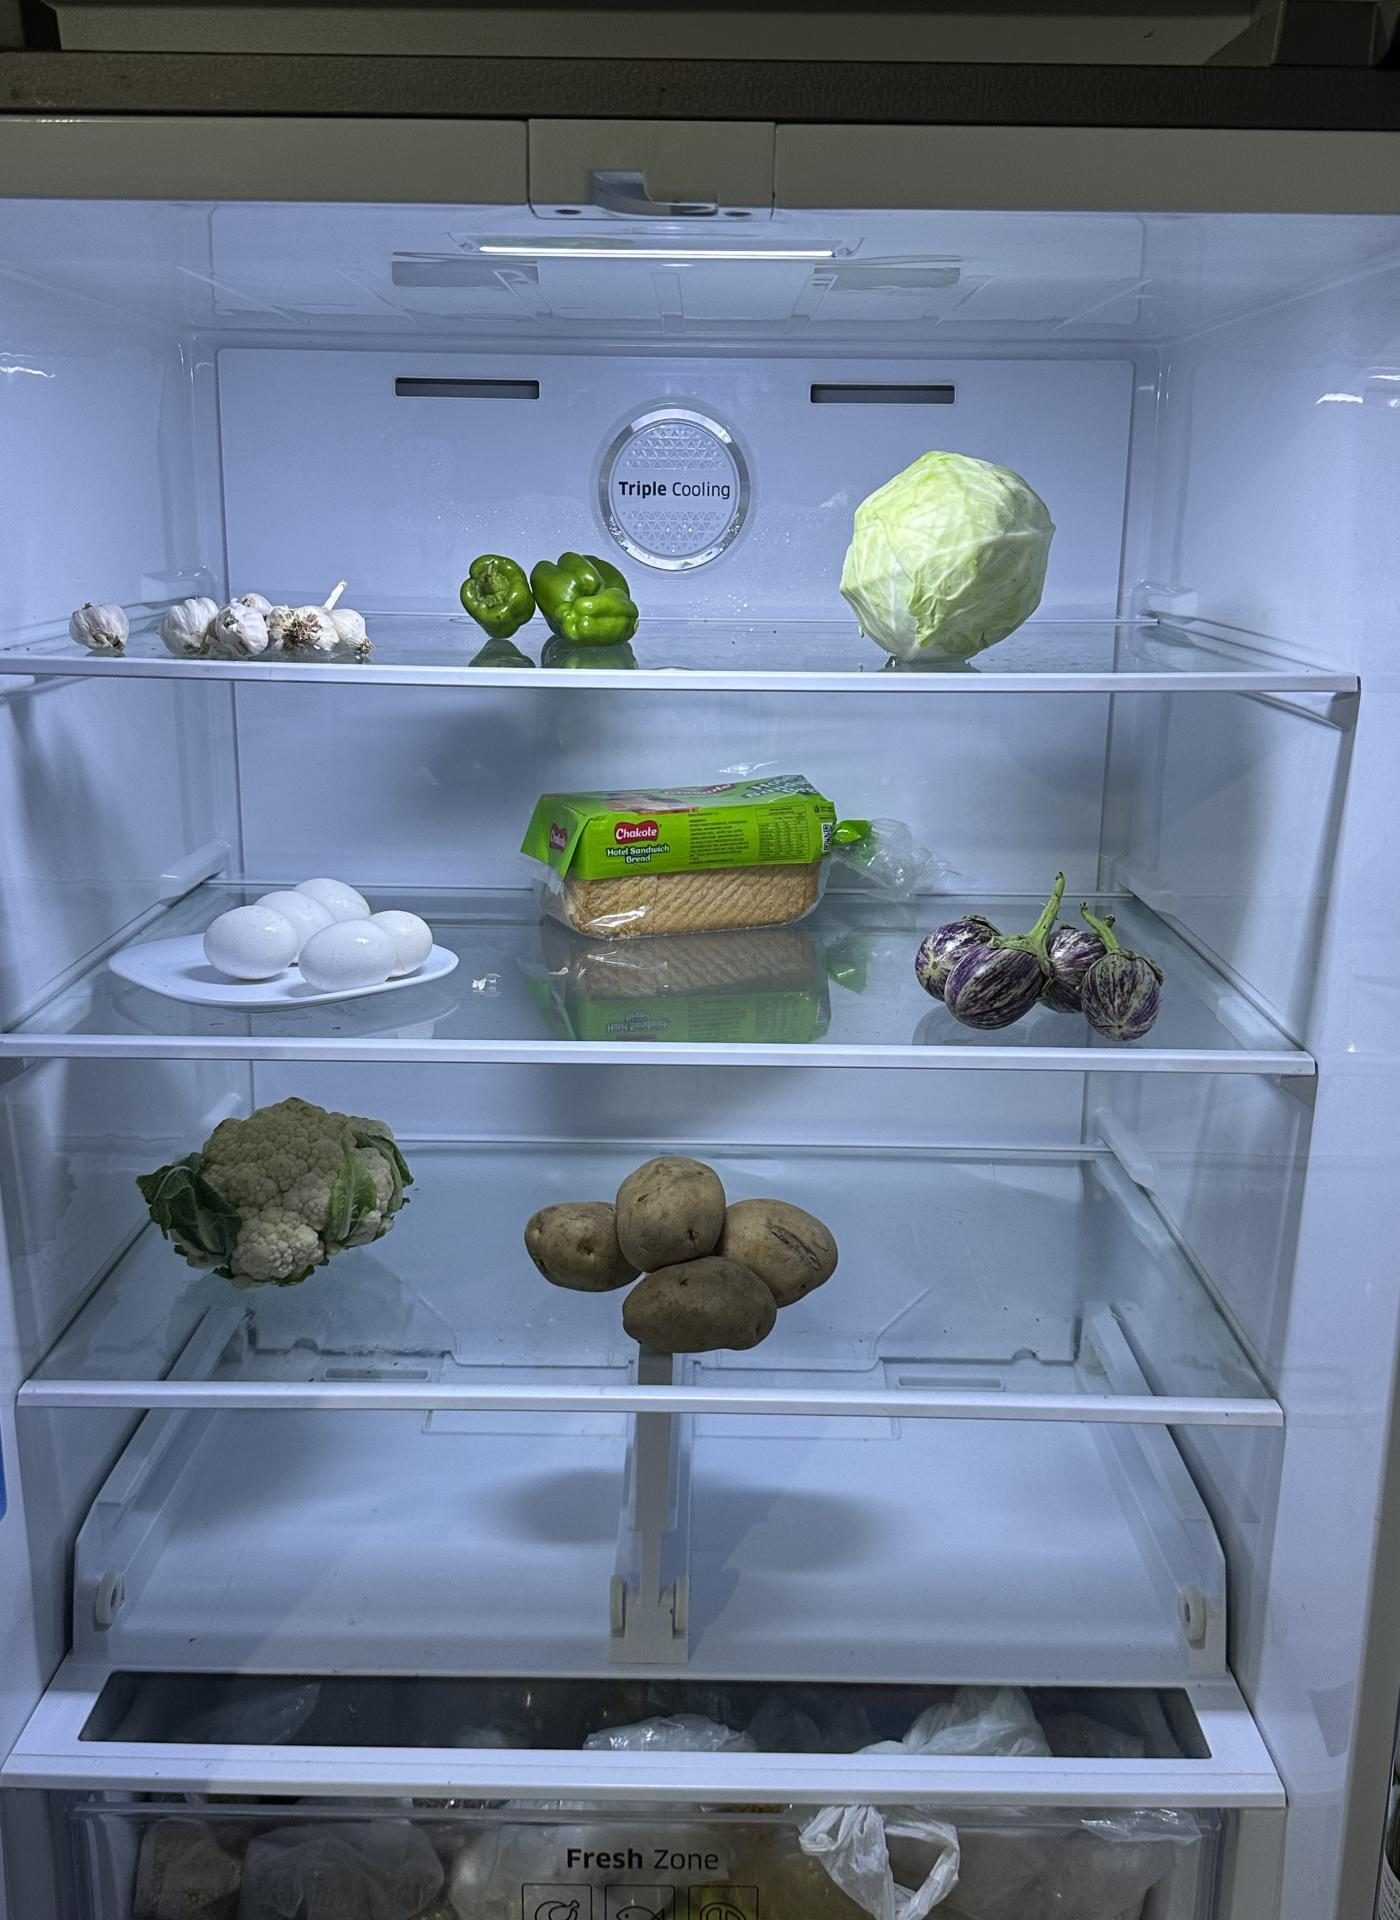bread: (517, 766, 850, 942)
brinjal: (923, 930, 1172, 1051)
cabbage: (838, 444, 1053, 663)
capsicum: (461, 547, 643, 659)
cauliflower: (142, 1099, 417, 1292)
egg: (186, 863, 419, 985)
garlic: (168, 578, 376, 669)
potato: (526, 1154, 847, 1361)
